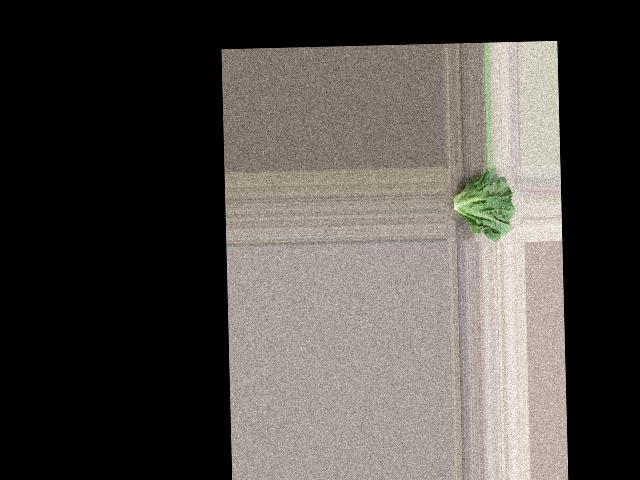lettuce: (447, 167, 518, 240)
